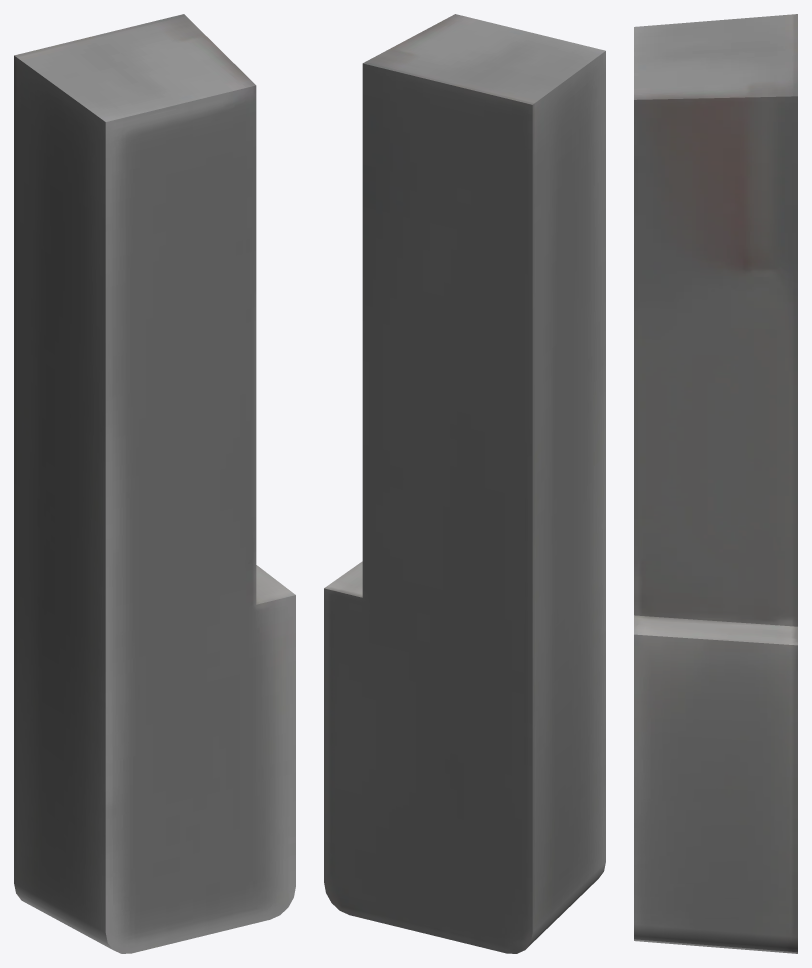
The model's file is white_key_0_part__white_key.glb.
3 renders of one model, left to right at view 1: azimuth 30°, elevation 25°; view 2: azimuth 150°, elevation 25°; view 3: azimuth 270°, elevation 25°, orthographic.
Parts seen in each view (by area): view 1: world; view 2: world; view 3: world.
Part boxes in pixels (bbox=[...]): world: bbox=[14, 14, 295, 953]; world: bbox=[324, 14, 605, 953]; world: bbox=[634, 14, 797, 953].
Bounding box in the file's own units: 0.0204 × 0.08 × 0.014.
1 material, 1 textured.
